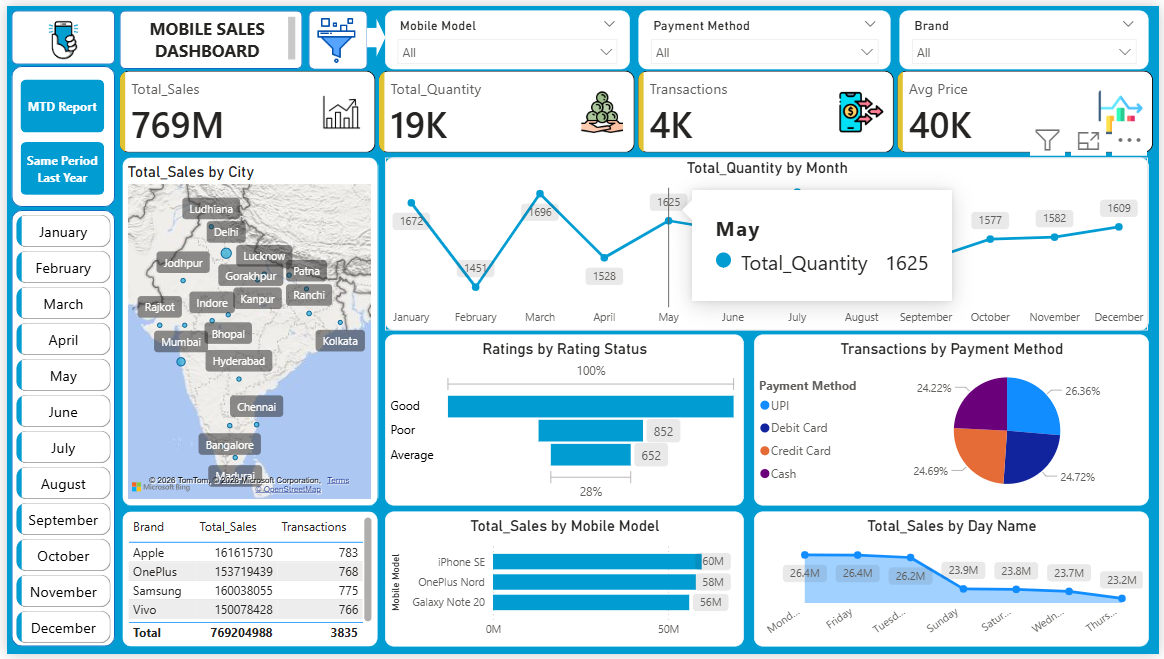

The dashboard page shown, as its layout file describes it:
{"tool":"powerbi","page":{"name":"Dashboard","canvas":[1280,720],"ordinal":0},"visuals":[{"type":"shape","box":[5,5,115,60],"z":0},{"type":"shape","box":[5,66.7,115,156.7],"z":1000},{"type":"shape","box":[5,226.7,115,485],"z":3000},{"type":"advancedSlicerVisual","fields":{"Values":["Custom_Calender.Date.Variation.Date Hierarchy.Month"]},"box":[5,226.7,115,493.3],"z":4000},{"type":"cardVisual","fields":{"Data":["Mobile_Sales_Data.Total_Sales","Mobile_Sales_Data.Total_Quantity","Mobile_Sales_Data.Transactions","Mobile_Sales_Data.Avg Price"]},"box":[120,67.1,1160,101.4],"z":5000},{"type":"slicer","fields":{"Values":["Mobile_Sales_Data.Mobile Model"]},"box":[420.4,4.7,272,65.6],"z":6000},{"type":"slicer","fields":{"Values":["Mobile_Sales_Data.Payment Method"]},"box":[701.7,5,280,65],"z":7000},{"type":"slicer","fields":{"Values":["Mobile_Sales_Data.Brand"]},"box":[991.7,5,276.7,65],"z":8000},{"type":"shape","box":[334.5,4.7,65.6,65.6],"z":9000},{"type":"image","box":[340,10,51.7,56.7],"z":10000},{"type":"shape","box":[400,13.6,20.7,43.6],"z":11000},{"type":"shape","box":[125,5,203.3,65],"z":12000},{"type":"textbox","box":[128.3,6.7,196.7,58.3],"z":13000},{"type":"map","fields":{"Category":["Mobile_Sales_Data.City"],"Size":["Mobile_Sales_Data.Total_Sales"]},"box":[128.3,168.3,283.3,386.7],"z":14000},{"type":"lineChart","fields":{"Category":["Custom_Calender.Date.Variation.Date Hierarchy.Month"],"Y":["Mobile_Sales_Data.Total_Quantity"]},"box":[420,168.3,848.3,191.7],"z":15000},{"type":"funnel","title":"Ratings by Rating Status","fields":{"Y":["CountNonNull(Mobile_Sales_Data.Customer Age)"],"Category":["Mobile_Sales_Data.Rating Status"]},"box":[420,365,398.3,190],"z":16000},{"type":"pieChart","fields":{"Y":["Mobile_Sales_Data.Transactions"],"Category":["Mobile_Sales_Data.Payment Method"]},"box":[830,365,438.3,190],"z":17000},{"type":"clusteredBarChart","fields":{"Y":["Mobile_Sales_Data.Total_Sales"],"Category":["Mobile_Sales_Data.Mobile Model"]},"box":[420,561.7,398.3,150],"z":18000},{"type":"areaChart","fields":{"Y":["Mobile_Sales_Data.Total_Sales"],"Category":["Custom_Calender.Day Name"]},"box":[830,561.7,438.3,150],"z":19000},{"type":"tableEx","fields":{"Values":["Mobile_Sales_Data.Brand","Mobile_Sales_Data.Total_Sales","Mobile_Sales_Data.Transactions"]},"box":[128.3,561.7,283.3,150],"z":20000},{"type":"pageNavigator","box":[15.6,81.3,93.8,129.7],"z":21000},{"type":"image","box":[25,10,75,55],"z":22000}]}

Visuals, with their boxes in screenshot pixels (x1, y1, x2, y2), scaled from the page's 1280x720 canvas onto the 1164x659 screenshot:
shape: <bbox>5, 5, 109, 59</bbox>
shape: <bbox>5, 61, 109, 204</bbox>
shape: <bbox>5, 207, 109, 651</bbox>
advancedSlicerVisual - Custom_Calender.Date.Variation.Date Hierarchy.Month: <bbox>5, 207, 109, 658</bbox>
cardVisual - Mobile_Sales_Data.Total_Sales x Mobile_Sales_Data.Total_Quantity: <bbox>109, 61, 1163, 154</bbox>
slicer - Mobile_Sales_Data.Mobile Model: <bbox>382, 4, 630, 64</bbox>
slicer - Mobile_Sales_Data.Payment Method: <bbox>638, 5, 893, 64</bbox>
slicer - Mobile_Sales_Data.Brand: <bbox>902, 5, 1153, 64</bbox>
shape: <bbox>304, 4, 364, 64</bbox>
image: <bbox>309, 9, 356, 61</bbox>
shape: <bbox>364, 12, 383, 52</bbox>
shape: <bbox>114, 5, 299, 64</bbox>
textbox: <bbox>117, 6, 296, 59</bbox>
map - Mobile_Sales_Data.City x Mobile_Sales_Data.Total_Sales: <bbox>117, 154, 374, 508</bbox>
lineChart - Custom_Calender.Date.Variation.Date Hierarchy.Month x Mobile_Sales_Data.Total_Quantity: <bbox>382, 154, 1153, 330</bbox>
"Ratings by Rating Status" funnel: <bbox>382, 334, 744, 508</bbox>
pieChart - Mobile_Sales_Data.Transactions x Mobile_Sales_Data.Payment Method: <bbox>755, 334, 1153, 508</bbox>
clusteredBarChart - Mobile_Sales_Data.Total_Sales x Mobile_Sales_Data.Mobile Model: <bbox>382, 514, 744, 651</bbox>
areaChart - Mobile_Sales_Data.Total_Sales x Custom_Calender.Day Name: <bbox>755, 514, 1153, 651</bbox>
tableEx - Mobile_Sales_Data.Brand x Mobile_Sales_Data.Total_Sales: <bbox>117, 514, 374, 651</bbox>
pageNavigator: <bbox>14, 74, 99, 193</bbox>
image: <bbox>23, 9, 91, 59</bbox>
